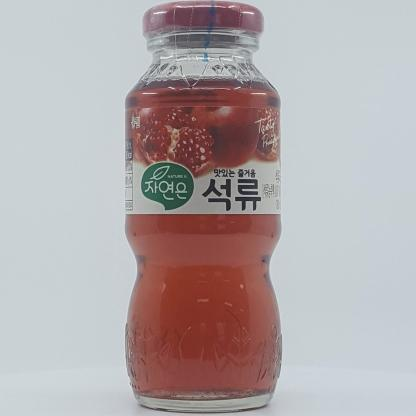-------180ML: (124, 0, 283, 412)
